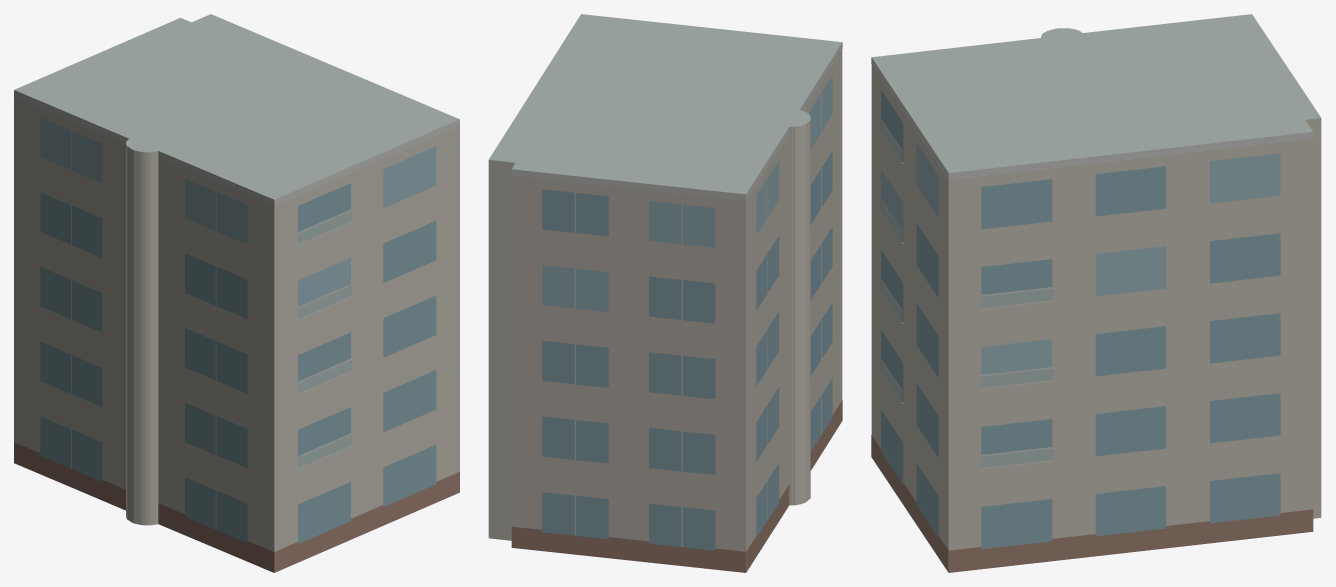
The model's file is survey-upis-32646921.glb.
3 renders of one model, left to right at view 1: azimuth 30°, elevation 25°; view 2: azimuth 150°, elevation 25°; view 3: azimuth 270°, elevation 25°, orthographic. The views are drawn at different scales.
Visible parts, largest first — view 1: survey-upis-32646921.tmp; view 2: survey-upis-32646921.tmp; view 3: survey-upis-32646921.tmp.
Boxes of the visible parts, <box> form: survey-upis-32646921.tmp: <box>14,14,459,572</box>; survey-upis-32646921.tmp: <box>488,14,842,572</box>; survey-upis-32646921.tmp: <box>871,14,1321,572</box>.
Bounding box in the file's own units: 11.74 × 13.75 × 14.03.
